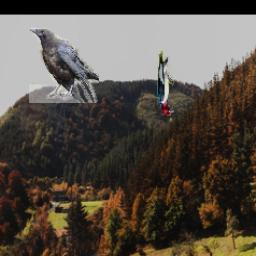Crow: (30, 28, 100, 104)
Woodpecker: (157, 51, 174, 116)
